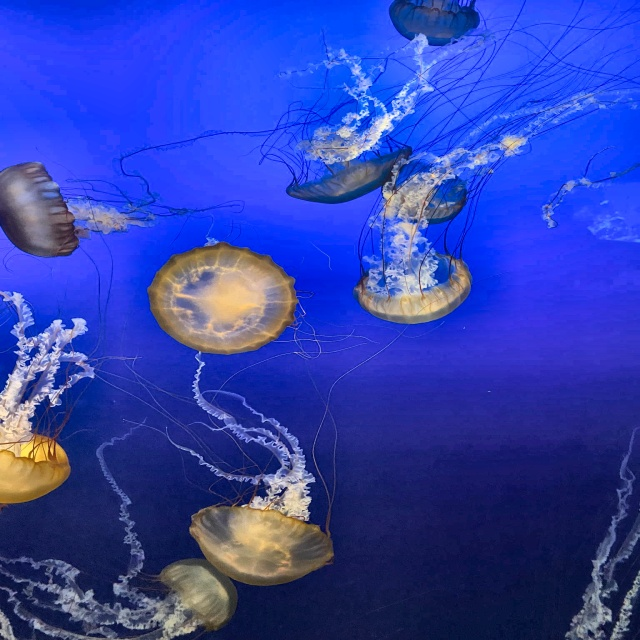jellyfish: (147, 241, 296, 355), (188, 503, 336, 587), (356, 251, 472, 325), (0, 159, 79, 259), (285, 145, 415, 203), (159, 555, 238, 639), (0, 434, 71, 507), (385, 168, 469, 224), (390, 1, 482, 48)
